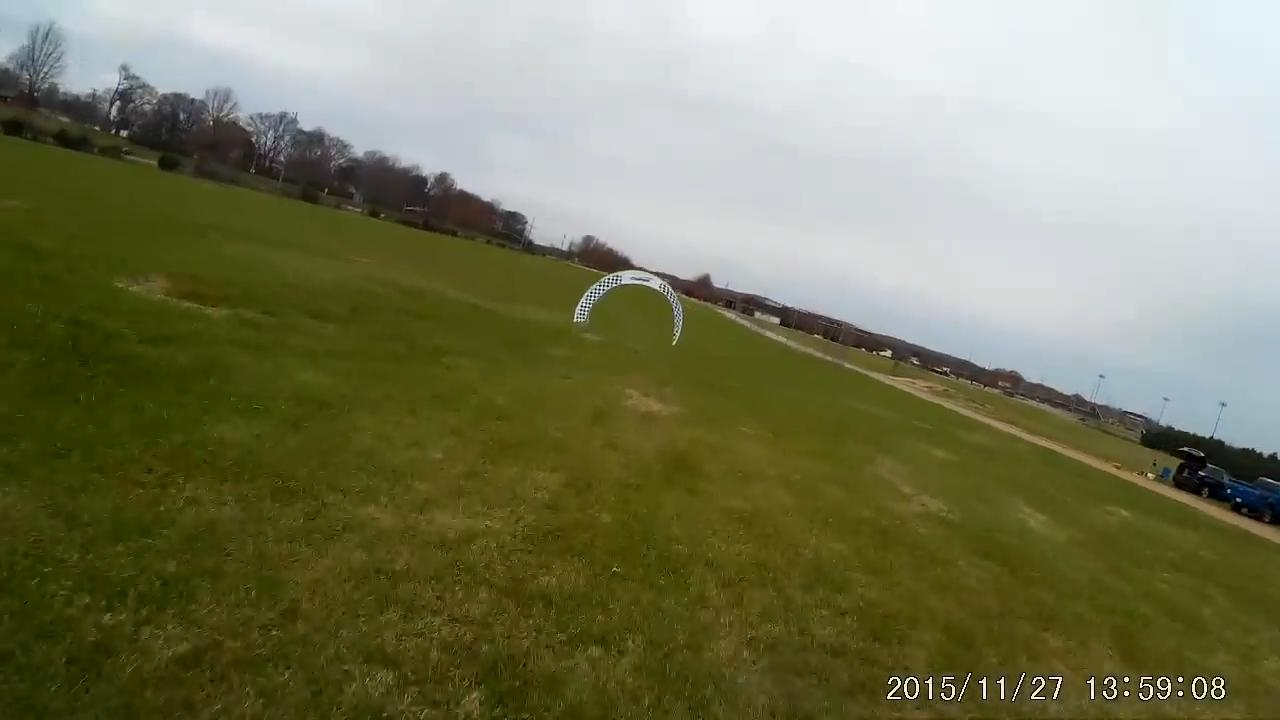gate: (572, 267, 685, 348)
